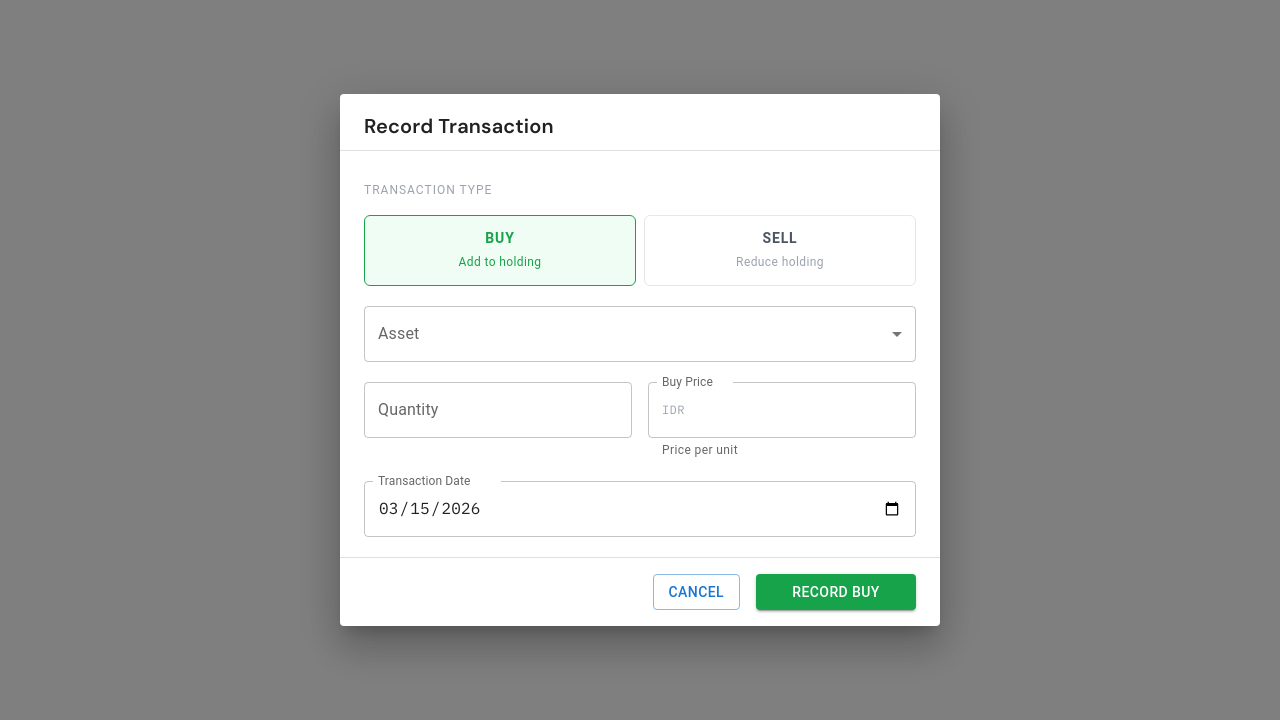
TransactionForm — total preview › shows the estimated total when quantity and price are both entered
Type "10" into the number field labelled "Quantity" at (498, 410), box [364,382,632,438]
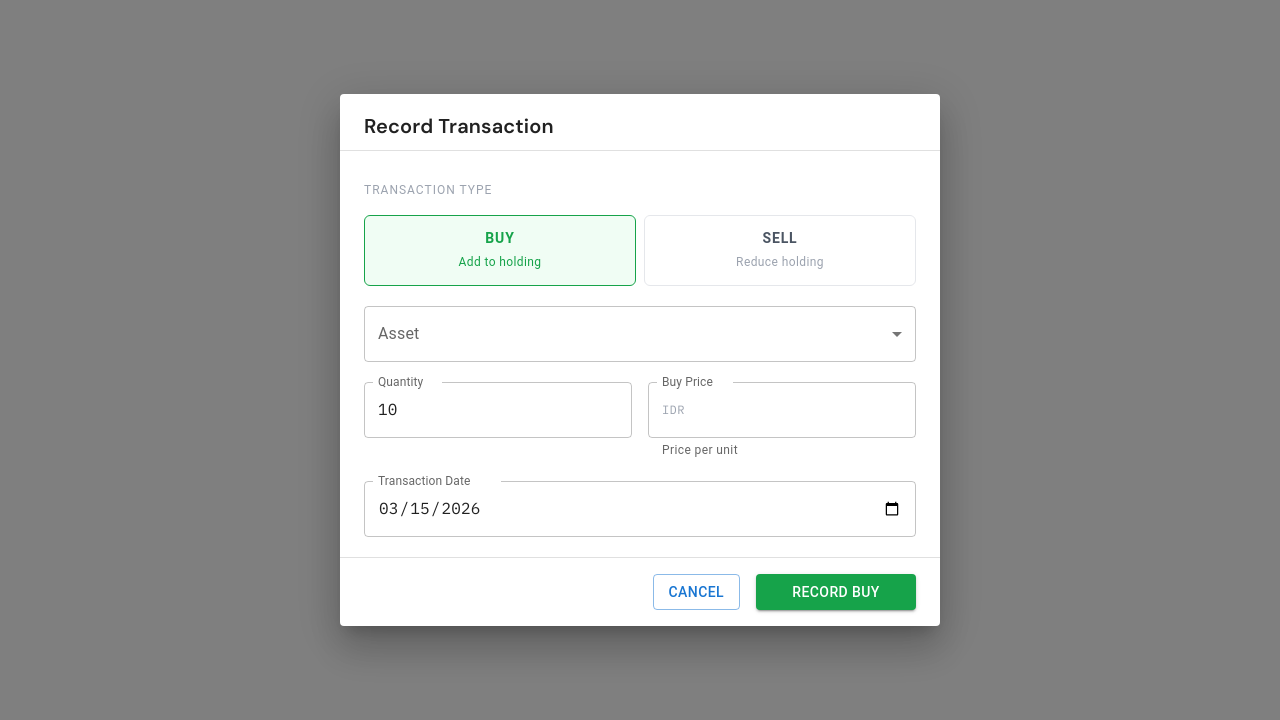
Type "5000" into the number field labelled "Buy Price" at (804, 410), box [693,382,916,438]
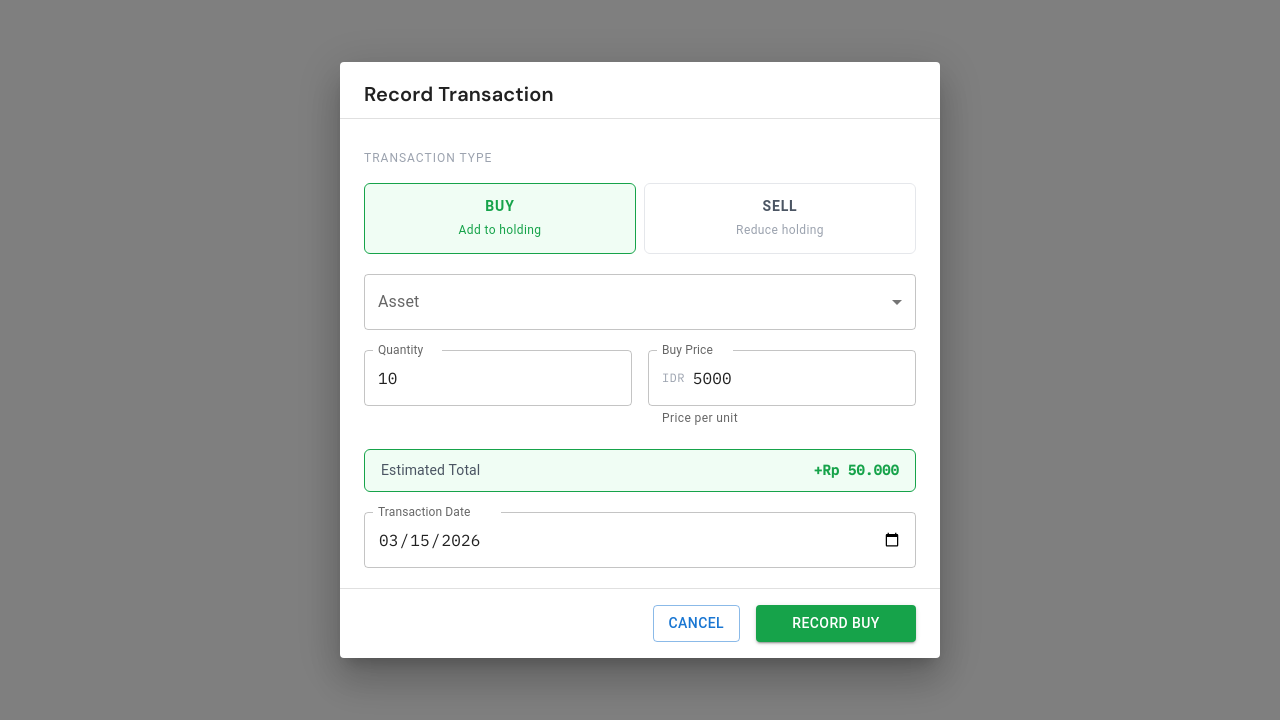
expect the text "Estimated Total" is shown: met, box [381,460,480,481]
